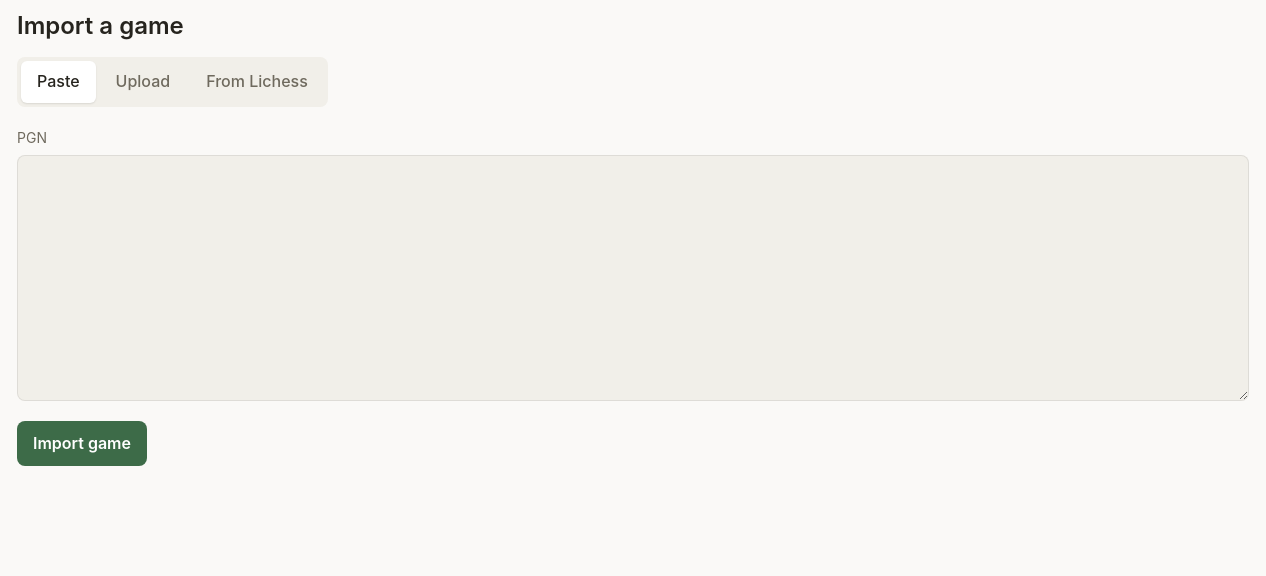
Test: ImportPage › an import failure with no problem+json title still surfaces a generic message
In the text box labelled "PGN": (633, 278) [17, 155, 1249, 401], type "1. e4 e5"
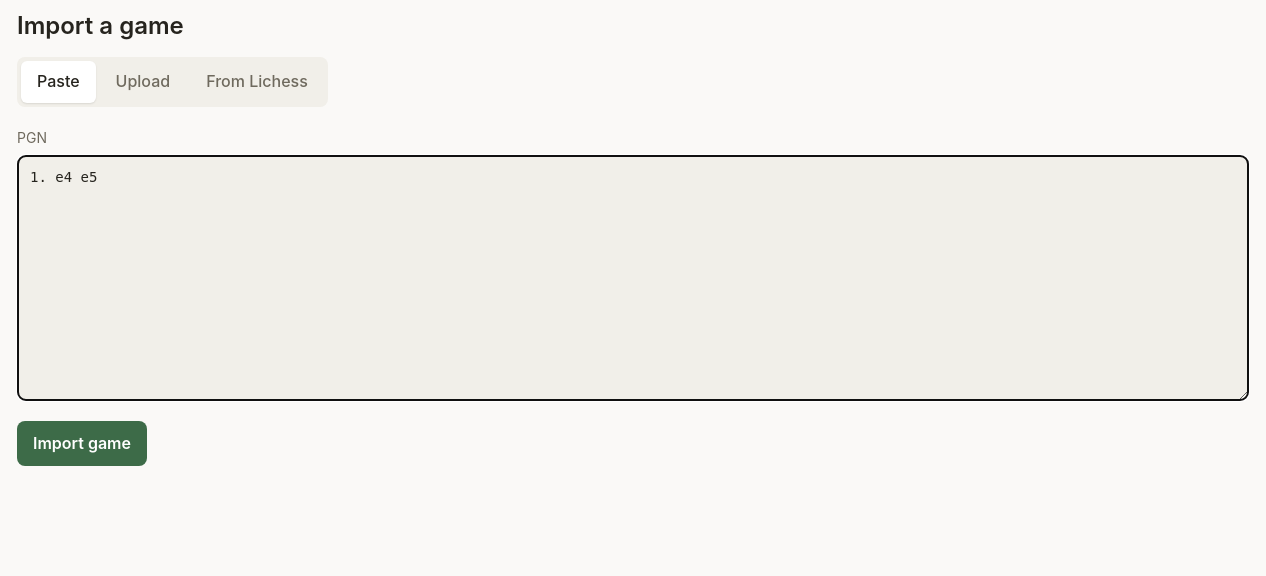
Click the button "Import game": (82, 444) [17, 421, 147, 466]
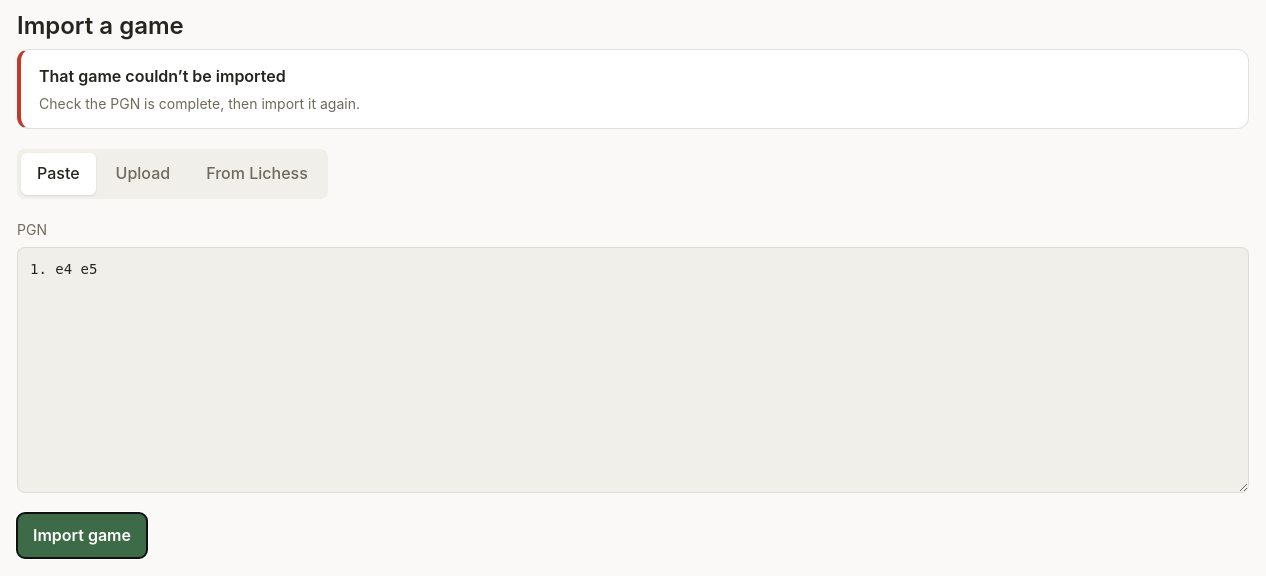
Check: the message shows "couldn’t be imported", box [39, 66, 286, 86]
